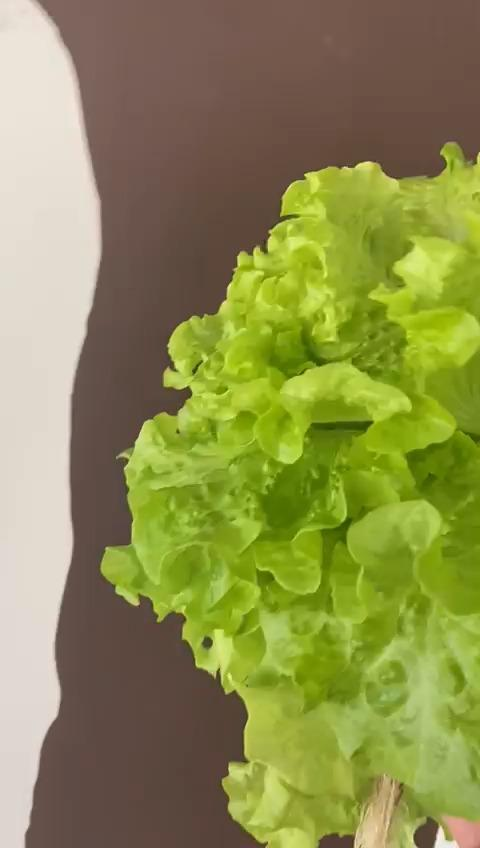Healthy Lettuce: (105, 142, 480, 848)
